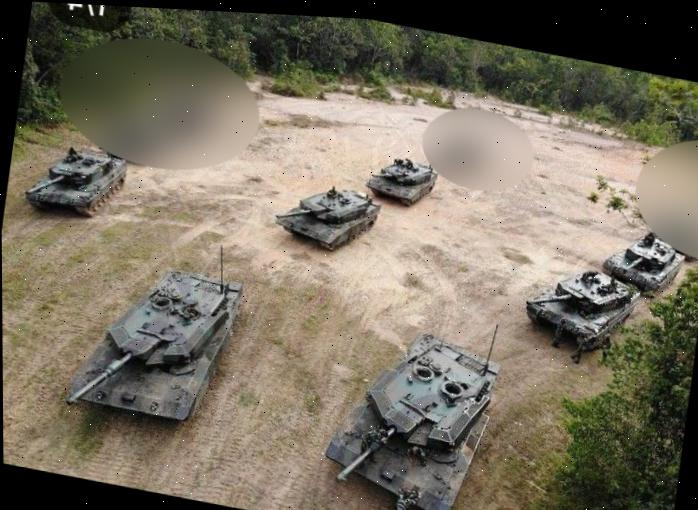tank: (315, 315, 505, 510), (64, 247, 245, 436), (518, 260, 642, 373), (22, 136, 131, 225), (271, 176, 384, 259), (599, 225, 687, 300), (363, 151, 439, 211)
